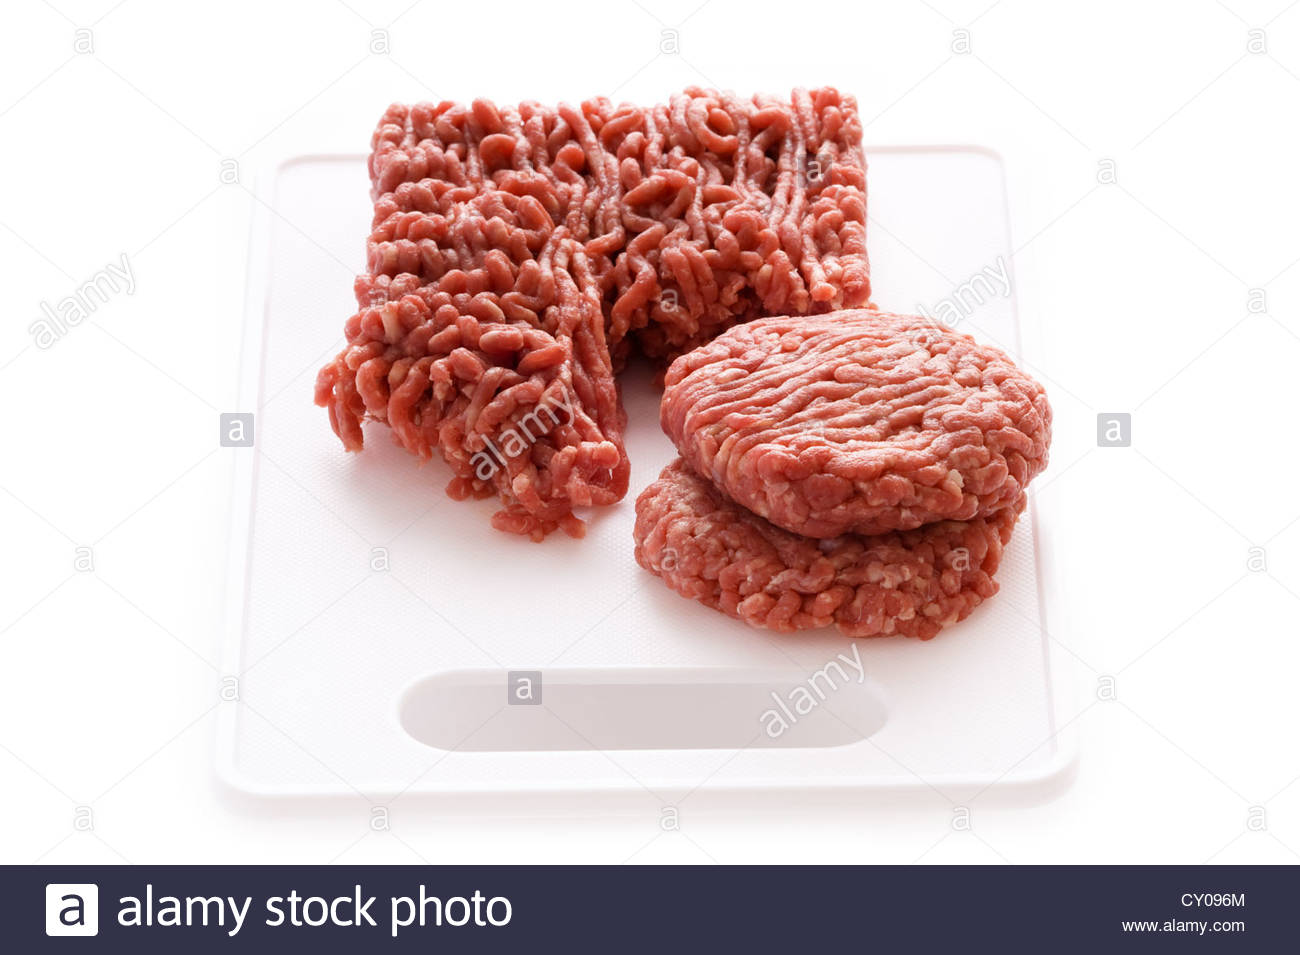ground_beef: (301, 36, 896, 485), (652, 308, 1070, 657)
